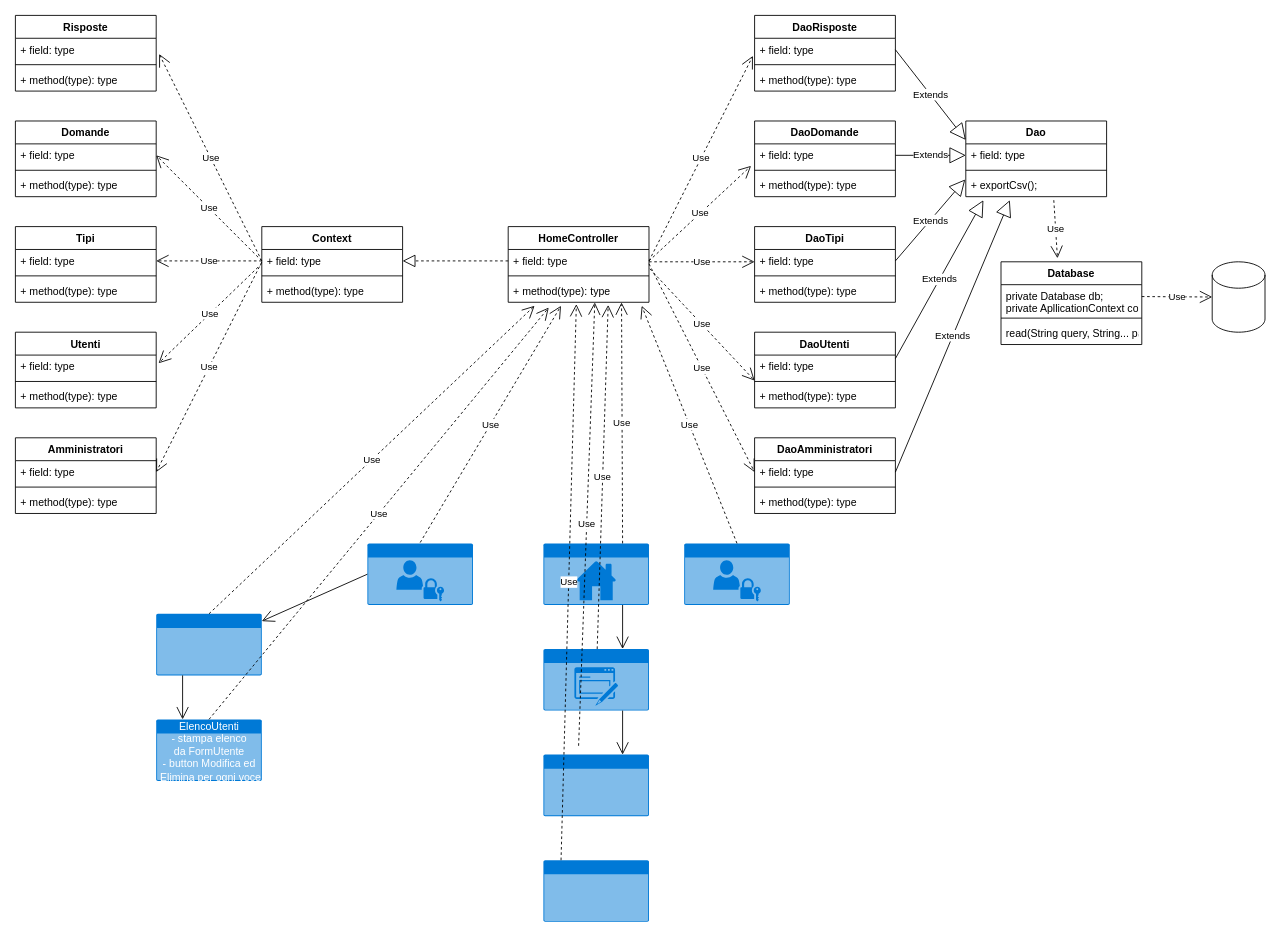
Some shapes in this 1280 by 937 pixel diagram are drawn without their labels. Here are the shapes that lost their labels. From the top down, the centre of each, then its label:
the point at 420,574: LoginAdmin - log con password criptata
the point at 596,574: HomeCorso - descrizione corso - bottone "Fai il Test"
the point at 736,574: LoginUtente - profilo utente - report test eseguiti (?)
the point at 208,644: MenuAdmin - profilo admin - navBar: redirect elencoUtenti
the point at 596,679: FormUtente - inserimento dai per richiesta e-mail con link d'invito al test
the point at 596,785: MenuTest - button dei test - button esci (redirect HomePage )
the point at 596,890: Test - test con timer - button con submit
